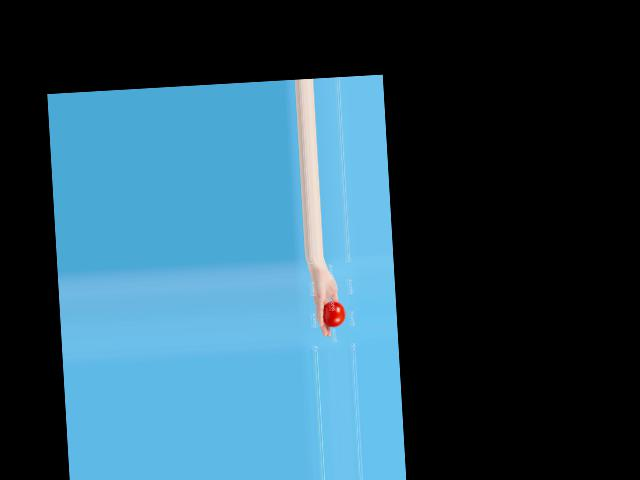tomato: (322, 300, 345, 327)
